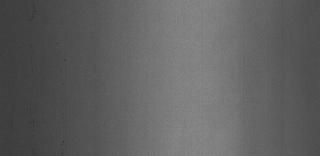silk spot: (20, 44, 48, 76)
